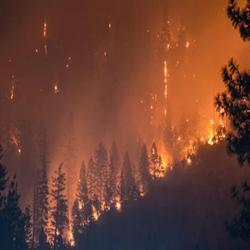fire: (154, 156, 168, 182), (206, 129, 222, 145), (111, 194, 123, 212)
